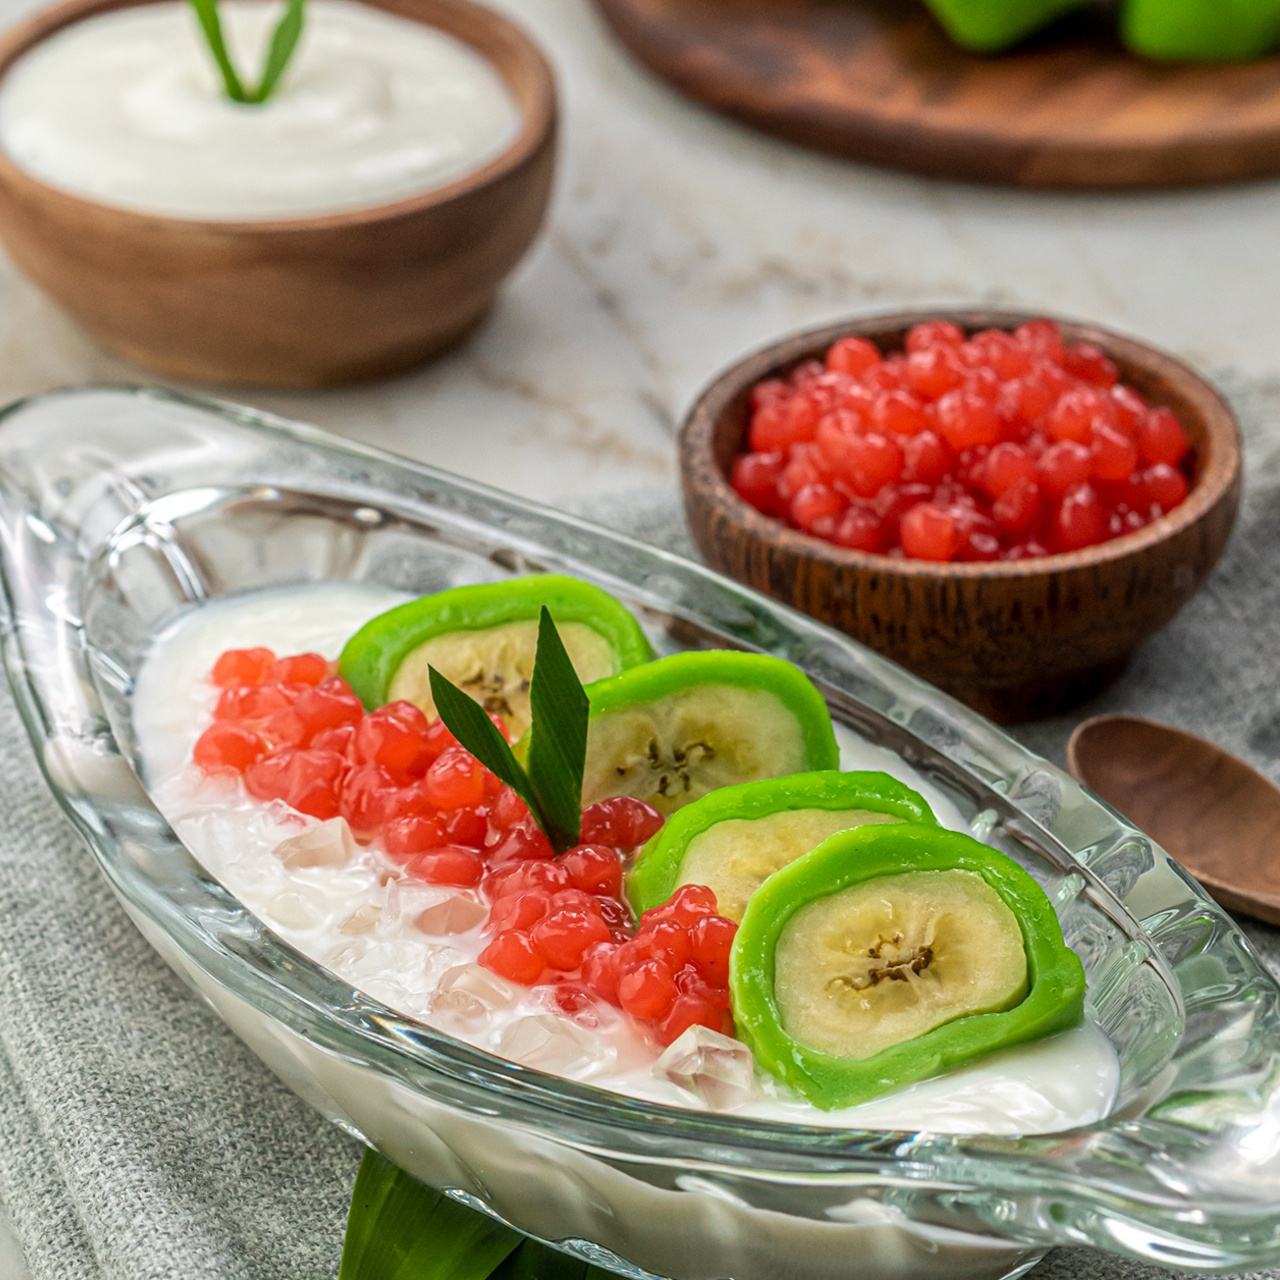pisang_ijo: (741, 806, 1005, 1097)
